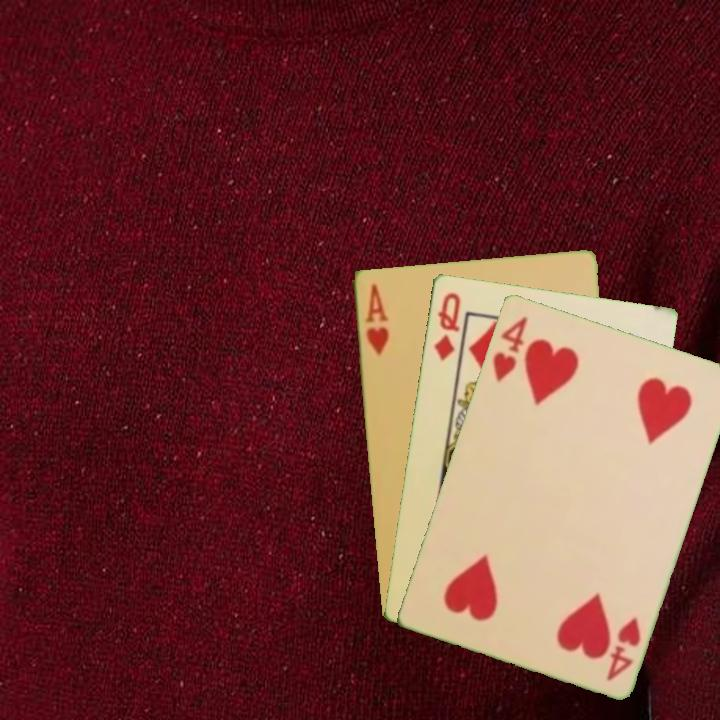4h: (489, 312, 530, 384), (602, 613, 643, 684)
Ah: (361, 280, 391, 358)
Qd: (430, 288, 463, 364)
